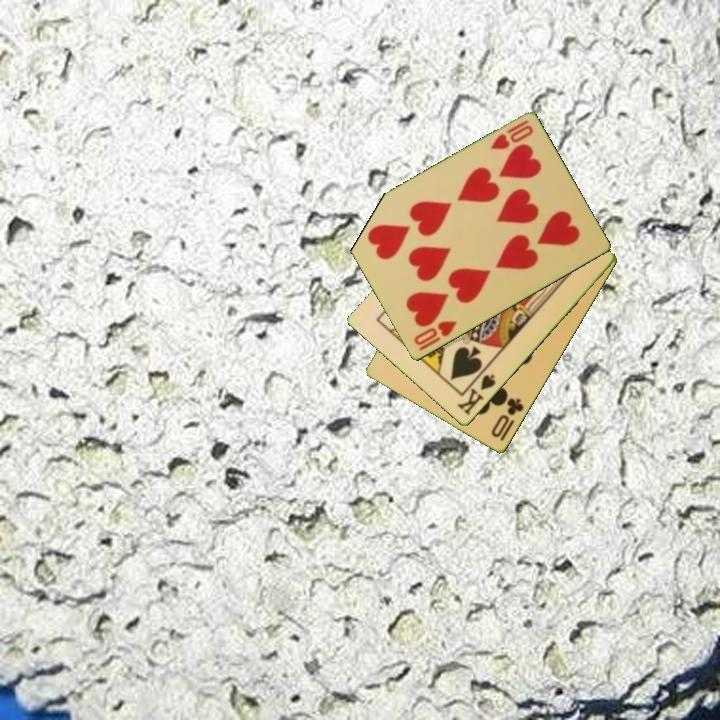10c: (488, 395, 527, 441)
10h: (410, 317, 460, 354), (487, 117, 536, 153)
Ks: (454, 371, 499, 419)
